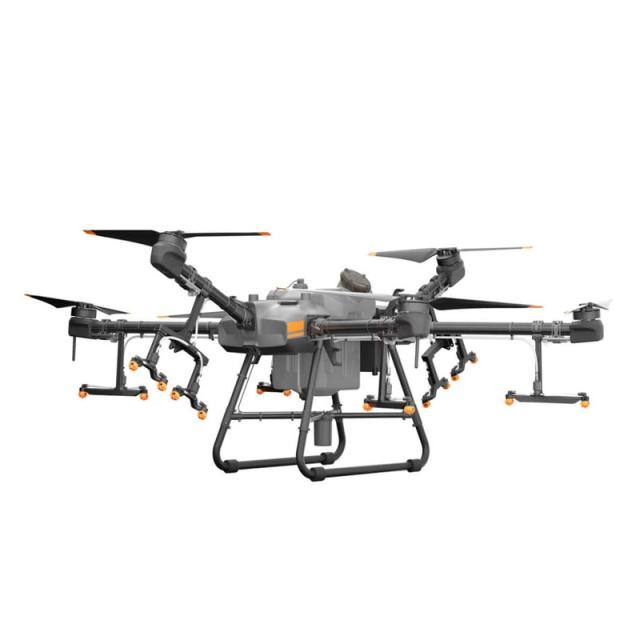drone: (39, 198, 640, 512)
